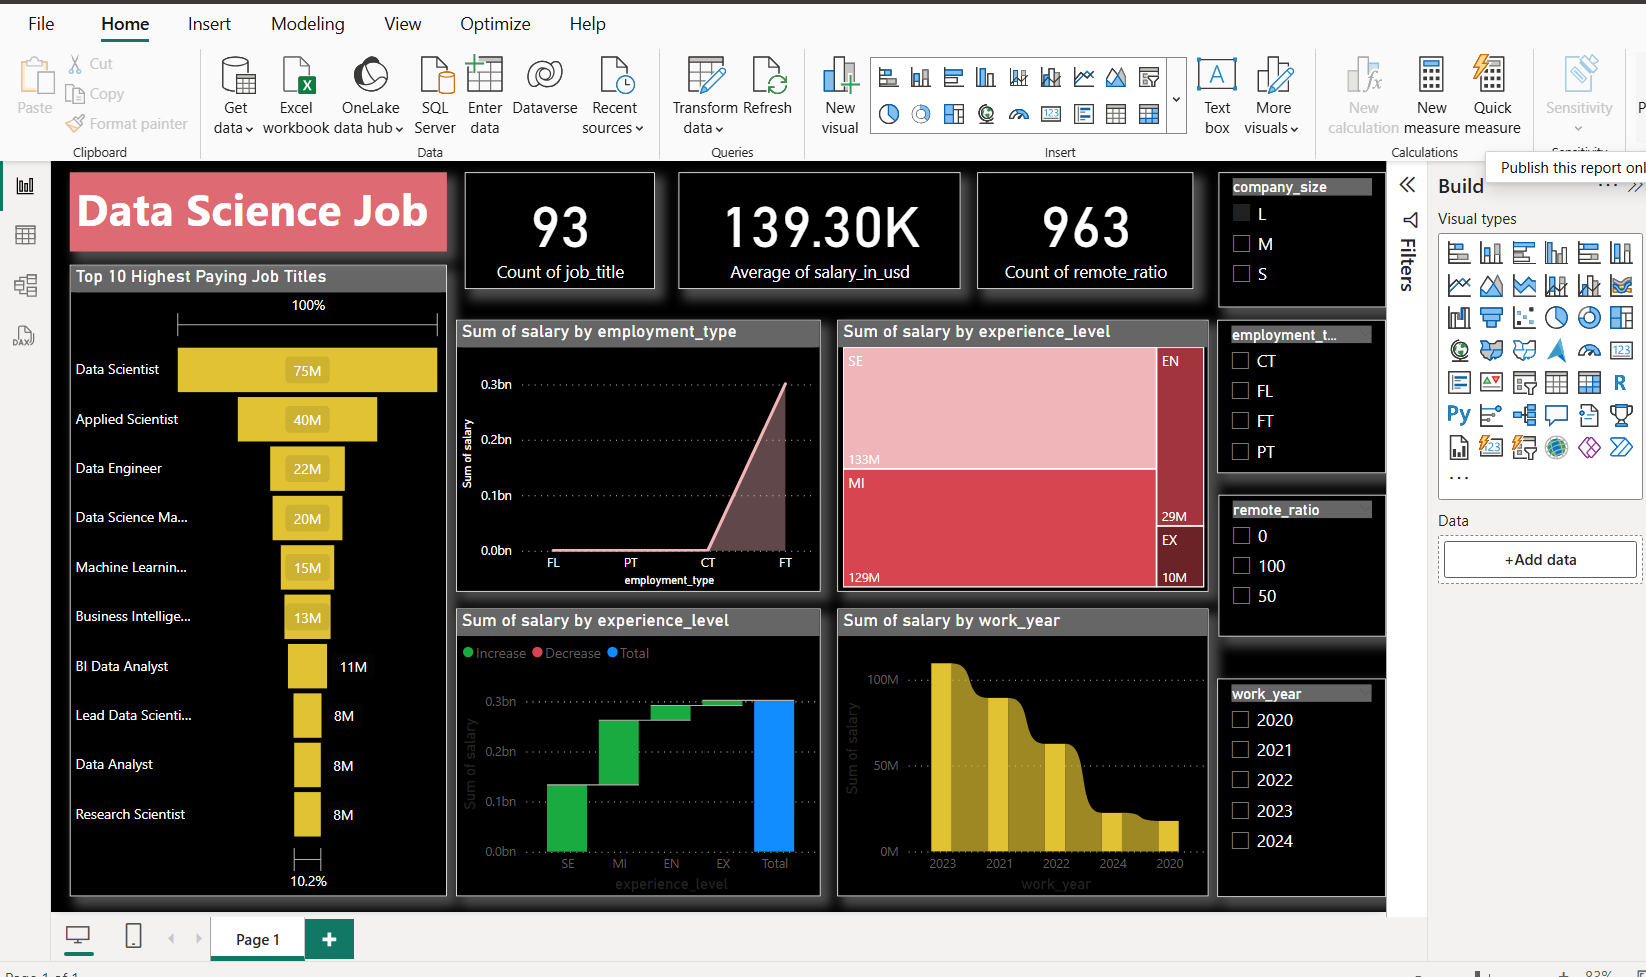

The dashboard page shown, as its layout file describes it:
{"tool":"powerbi","page":{"name":"Page 1","canvas":[1280,720],"ordinal":0},"visuals":[{"type":"funnel","title":"Top 10 Highest Paying Job Titles\n","fields":{"Category":["salaries.job_title"],"Y":["Sum(salaries.salary)"]},"box":[17.9,100,361.8,605.8],"z":0},{"type":"waterfallChart","fields":{"Category":["salaries.experience_level"],"Y":["Sum(salaries.salary)"]},"box":[388,429.6,349.9,276.1],"z":1},{"type":"ribbonChart","fields":{"Category":["salaries.work_year"],"Y":["Sum(salaries.salary)"]},"box":[753.3,429.6,355.8,276.1],"z":2},{"type":"stackedAreaChart","fields":{"Category":["salaries.employment_type"],"Y":["Sum(salaries.salary)"]},"box":[388,152.3,349.9,260.6],"z":4},{"type":"treemap","fields":{"Group":["salaries.experience_level"],"Values":["Sum(salaries.salary)"]},"box":[753.3,152.3,355.8,260.6],"z":5},{"type":"slicer","fields":{"Values":["salaries.company_size"]},"box":[1119.9,10.7,160.7,129.7],"z":6},{"type":"slicer","fields":{"Values":["salaries.employment_type"]},"box":[1118.7,152.3,161.9,147.6],"z":7},{"type":"slicer","fields":{"Values":["salaries.remote_ratio"]},"box":[1119.9,320.1,160.7,135.7],"z":8},{"type":"slicer","fields":{"Values":["salaries.work_year"]},"box":[1118.7,496.3,161.9,209.5],"z":9},{"type":"card","fields":{"Values":["Count(salaries.job_title)"]},"box":[396.3,10.7,182.1,111.9],"z":10},{"type":"card","fields":{"Values":["Avg(salaries.salary_in_usd)"]},"box":[602.2,10.7,270.1,111.9],"z":11},{"type":"card","fields":{"Values":["CountNonNull(salaries.remote_ratio)"]},"box":[887.8,10.7,207.1,111.9],"z":12},{"type":"textbox","box":[17.9,10.7,361.8,76.2],"z":13}]}

Visuals, with their boxes on the page's 1280x720 design canvas (x1, y1, x2, y2). These are canvas units, not pixel positions in the 1646x977 screenshot, which may show the page scaled, cropped or inside an application window:
"Top 10 Highest Paying Job Titles
" funnel: bbox(18, 100, 380, 706)
waterfallChart - salaries.experience_level x Sum(salaries.salary): bbox(388, 430, 738, 706)
ribbonChart - salaries.work_year x Sum(salaries.salary): bbox(753, 430, 1109, 706)
stackedAreaChart - salaries.employment_type x Sum(salaries.salary): bbox(388, 152, 738, 413)
treemap - salaries.experience_level x Sum(salaries.salary): bbox(753, 152, 1109, 413)
slicer - salaries.company_size: bbox(1120, 11, 1281, 140)
slicer - salaries.employment_type: bbox(1119, 152, 1281, 300)
slicer - salaries.remote_ratio: bbox(1120, 320, 1281, 456)
slicer - salaries.work_year: bbox(1119, 496, 1281, 706)
card - Count(salaries.job_title): bbox(396, 11, 578, 123)
card - Avg(salaries.salary_in_usd): bbox(602, 11, 872, 123)
card - CountNonNull(salaries.remote_ratio): bbox(888, 11, 1095, 123)
textbox: bbox(18, 11, 380, 87)
